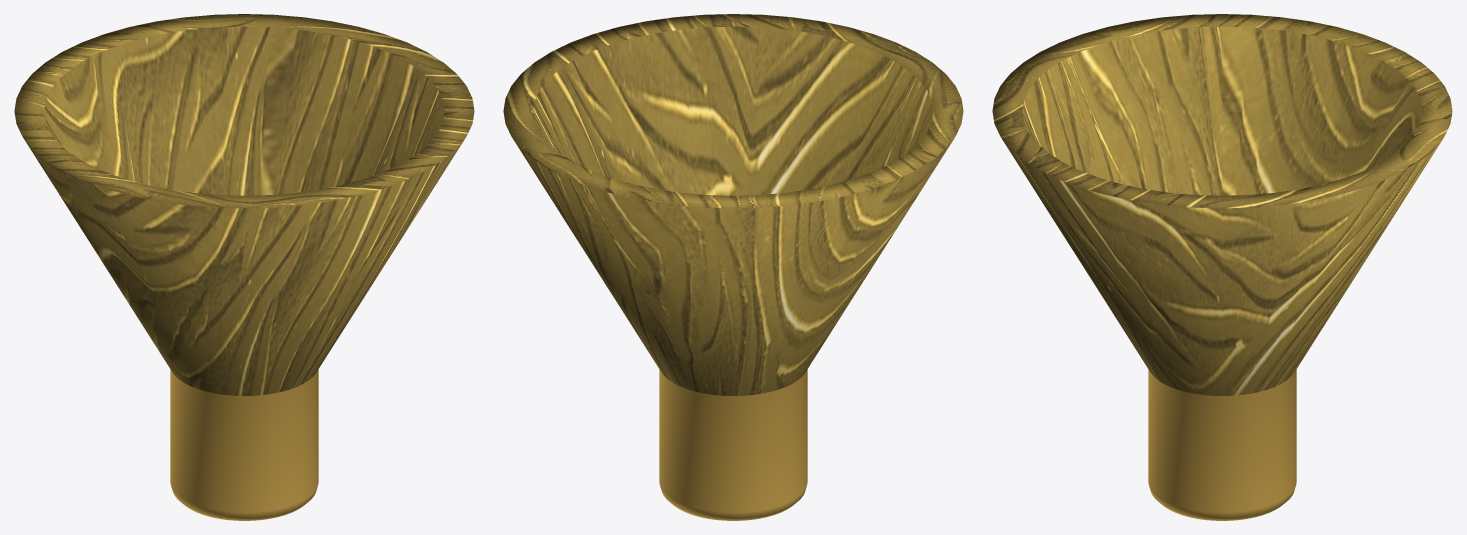
The model's file is Bell2.fbx.
3 renders of one model, left to right at view 1: azimuth 30°, elevation 25°; view 2: azimuth 150°, elevation 25°; view 3: azimuth 270°, elevation 25°, orthographic.
Parts seen in each view (by area): view 1: Torus; view 2: Torus; view 3: Torus.
Boxes of the visible parts, <box> form: Torus: <box>14,14,474,520</box>; Torus: <box>503,14,963,520</box>; Torus: <box>992,14,1452,520</box>.
Bounding box in the file's own units: 1084 × 997 × 1084.
